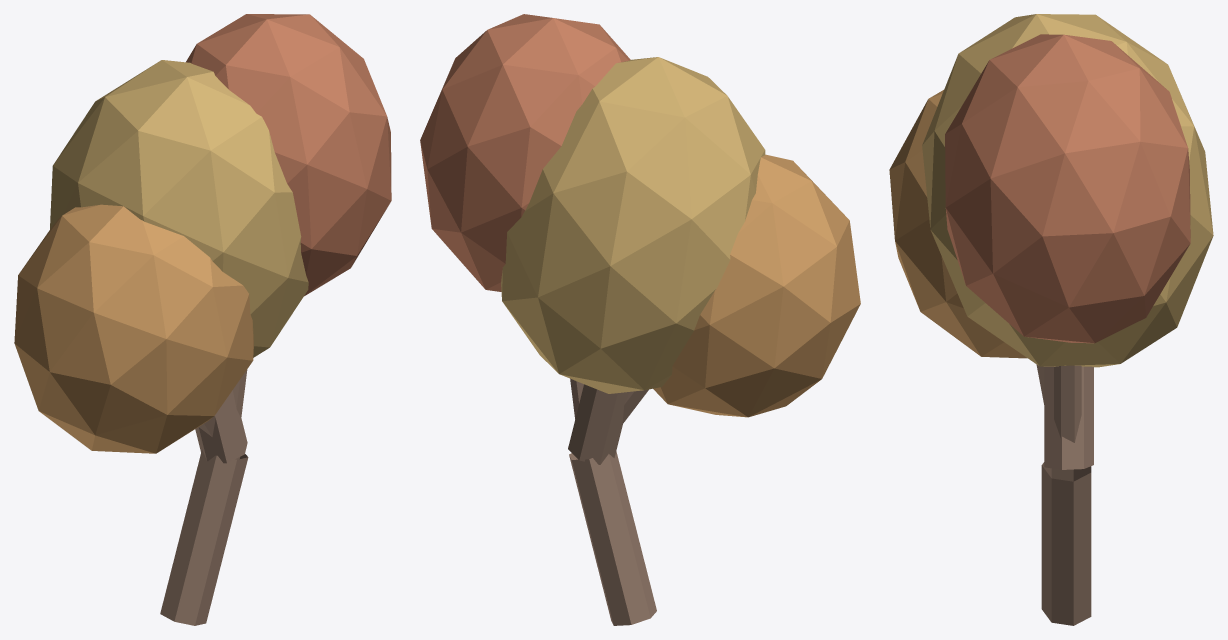
3 views of the same model, side by side, from view 1: azimuth 30°, elevation 25°; view 2: azimuth 150°, elevation 25°; view 3: azimuth 270°, elevation 25° (orthographic). The views are drawn at different scales.
Visible parts, largest first — view 1: T08; view 2: T08; view 3: T08.
Part boxes in pixels (x1,y1,x2,y2): T08: [14, 14, 391, 625]; T08: [420, 14, 860, 625]; T08: [889, 14, 1213, 625].
Bounding box in the file's own units: 1.62 × 2.38 × 1.12.
